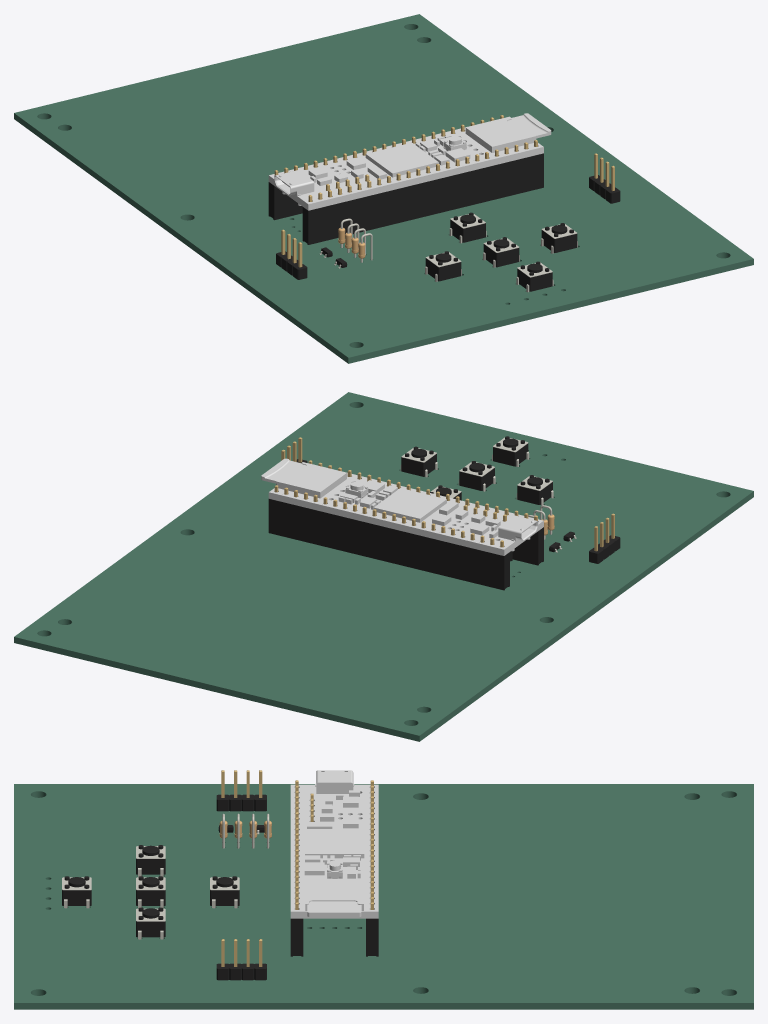
Rendered from raquette.glb.
3 renders of one model, top to bottom at view 1: azimuth 30°, elevation 25°; view 2: azimuth 150°, elevation 25°; view 3: azimuth 270°, elevation 25°, orthographic. The views are drawn at different scales.
Visible parts, largest first — view 1: =>[0:1:1:20], =>[0:1:1:19], =>[0:1:1:11] (×2), =>[0:1:1:7] (×5), =>[0:1:1:13] (×2), =>[0:1:1:3] (×2); view 2: =>[0:1:1:20], =>[0:1:1:19], =>[0:1:1:11] (×2), =>[0:1:1:7] (×4), =>[0:1:1:13] (×2), =>[0:1:1:3]; view 3: =>[0:1:1:20], =>[0:1:1:19], =>[0:1:1:7] (×5), =>[0:1:1:3] (×2), =>[0:1:1:13] (×2), =>[0:1:1:11] (×2).
Boxes of the visible parts, x1,y1,x2,y2 form: =>[0:1:1:20]: (14, 14, 753, 363); =>[0:1:1:19]: (268, 113, 551, 210); =>[0:1:1:11] (×2): (268, 153, 543, 244); =>[0:1:1:7] (×5): (425, 212, 577, 292); =>[0:1:1:13] (×2): (269, 115, 542, 230); =>[0:1:1:3] (×2): (276, 153, 620, 279); =>[0:1:1:20]: (14, 392, 753, 741); =>[0:1:1:19]: (261, 458, 543, 555); =>[0:1:1:11] (×2): (268, 499, 543, 590); =>[0:1:1:7] (×4): (400, 436, 553, 505); =>[0:1:1:13] (×2): (269, 460, 543, 577); =>[0:1:1:3]: (589, 513, 620, 563); =>[0:1:1:20]: (14, 784, 753, 1009); =>[0:1:1:19]: (290, 770, 378, 918); =>[0:1:1:7] (×5): (62, 845, 239, 939); =>[0:1:1:3] (×2): (216, 770, 266, 980); =>[0:1:1:13] (×2): (292, 780, 377, 943); =>[0:1:1:11] (×2): (290, 918, 378, 956).
Size of the model in its own units: 0.105 by 0.0163 by 0.15.
